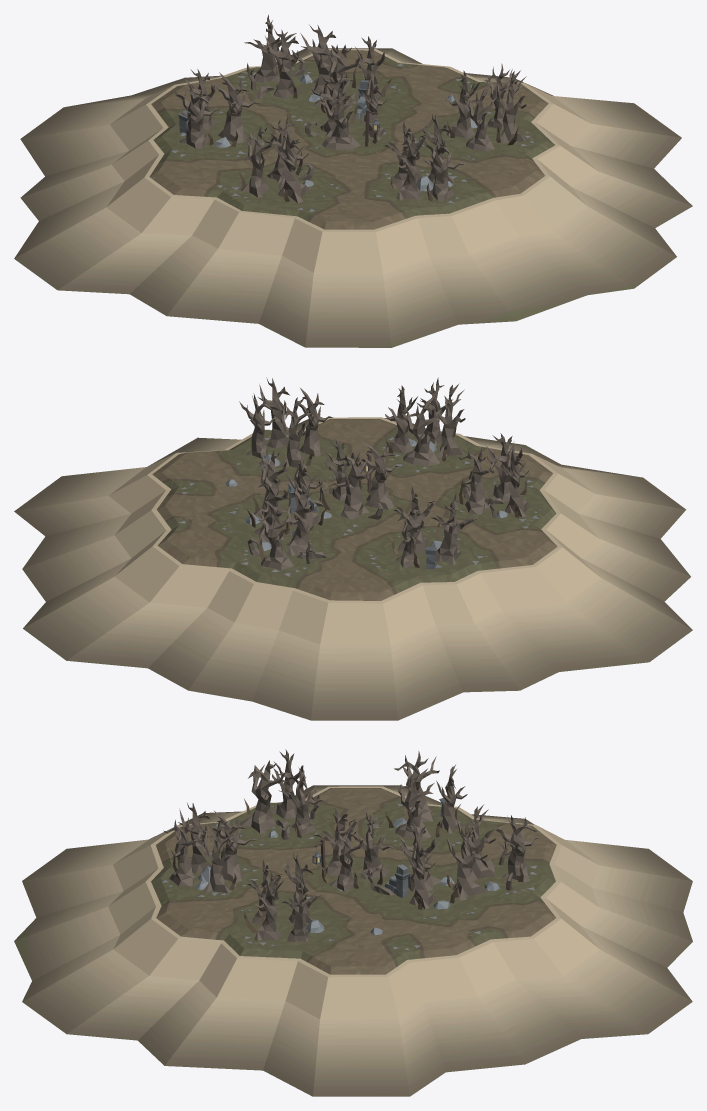
File: hexMidnight02.fbx
3 views of the same model, one above another, from view 1: azimuth 30°, elevation 25°; view 2: azimuth 150°, elevation 25°; view 3: azimuth 270°, elevation 25° (orthographic). The views are drawn at different scales.
Parts seen in each view (by area): view 1: hexMidnight02; view 2: hexMidnight02; view 3: hexMidnight02.
Boxes of the visible parts, bbox=[...] form: hexMidnight02: bbox=[14, 14, 692, 347]; hexMidnight02: bbox=[14, 377, 692, 720]; hexMidnight02: bbox=[14, 749, 692, 1096].
Size of the model in its own units: 25.74 by 5.05 by 23.71.
2 materials, 2 textured.
